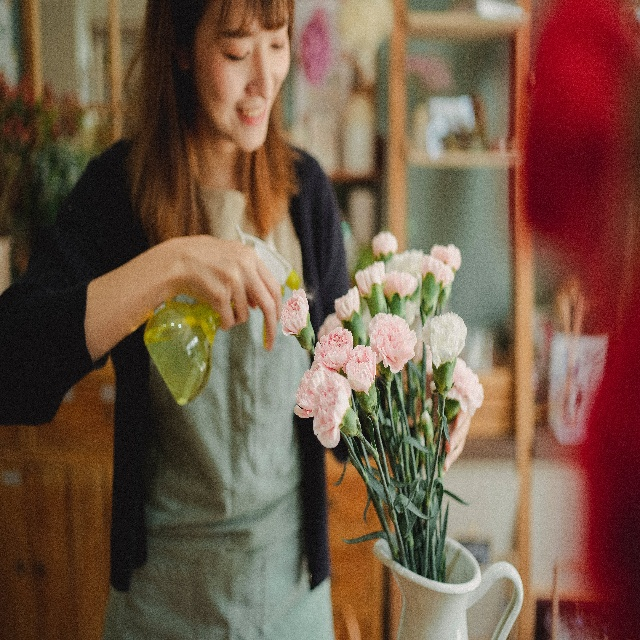Sin_guantes: (176, 234, 283, 347)
